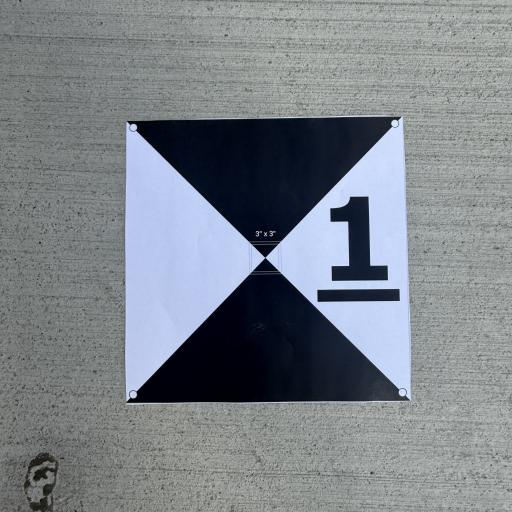target1: (121, 112, 412, 404)
